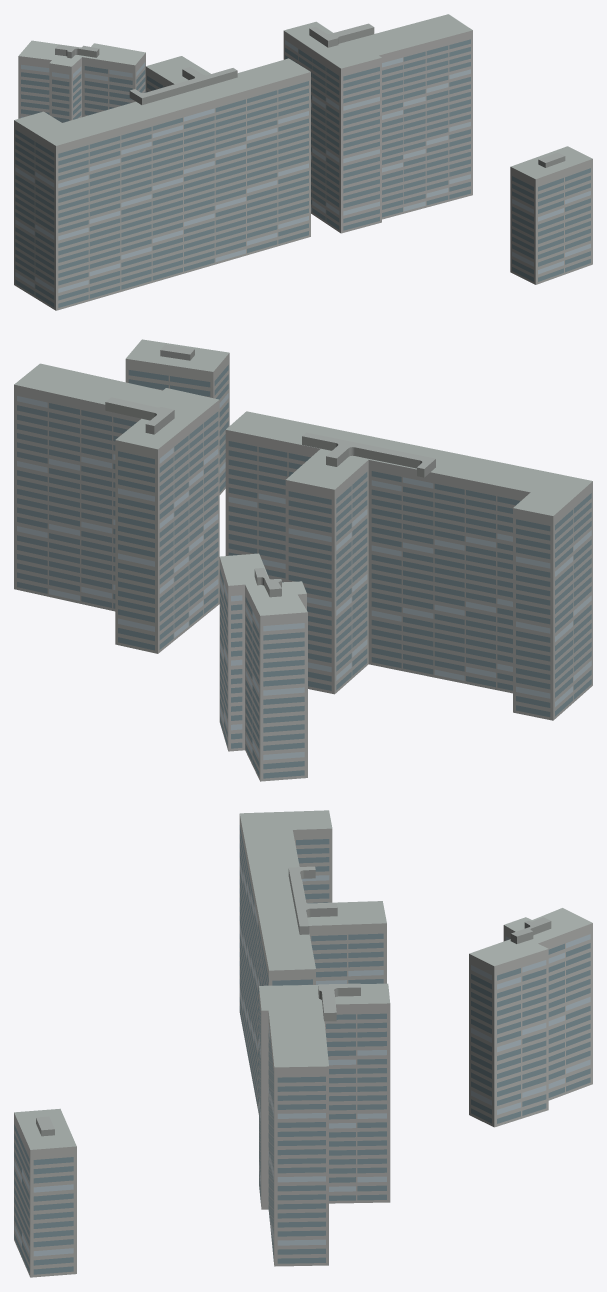
Rendered from apt-a13186401.glb.
3 renders of one model, top to bottom at view 1: azimuth 30°, elevation 25°; view 2: azimuth 150°, elevation 25°; view 3: azimuth 270°, elevation 25°, orthographic. The views are drawn at different scales.
Parts seen in each view (by area): view 1: apt-a13186401; view 2: apt-a13186401; view 3: apt-a13186401.
Boxes of the visible parts, x1,y1,x2,y2 form: apt-a13186401: (14, 14, 592, 310); apt-a13186401: (14, 339, 592, 781); apt-a13186401: (14, 810, 592, 1277).
Bounding box in the file's own units: 164 × 59 × 149.
